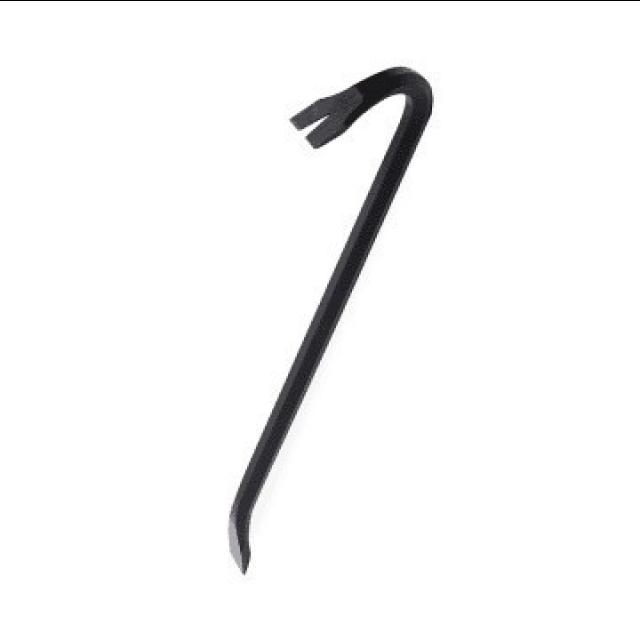Linggis: (227, 68, 437, 574)
